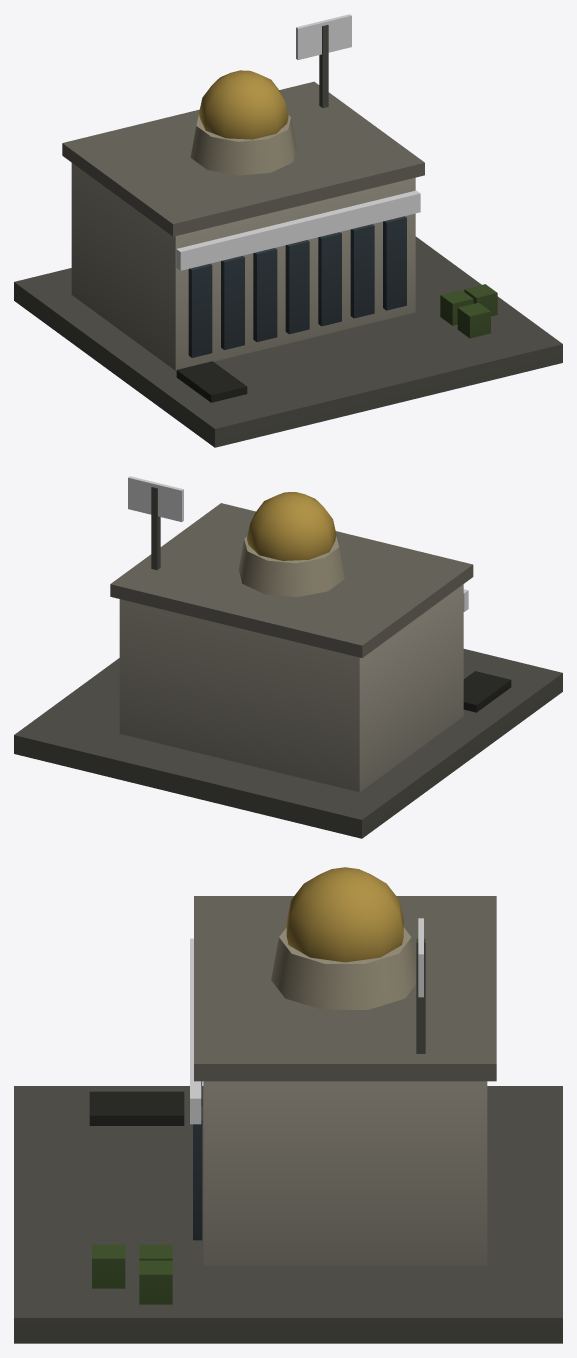
The model's file is m_econ_119a022c.glb.
3 renders of one model, top to bottom at view 1: azimuth 30°, elevation 25°; view 2: azimuth 150°, elevation 25°; view 3: azimuth 270°, elevation 25°, orthographic. The views are drawn at different scales.
Parts seen in each view (by area): view 1: mesh; view 2: mesh; view 3: mesh.
Boxes of the visible parts, x1=… form: mesh: x1=14, y1=14, x2=562, y2=447; mesh: x1=14, y1=476, x2=562, y2=838; mesh: x1=14, y1=867, x2=562, y2=1343.
Size of the model in its own units: 58 by 40.5 by 58.
